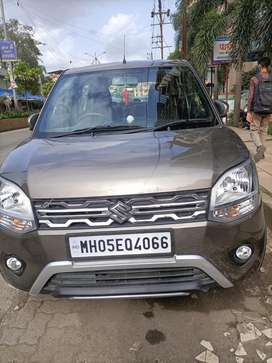MH05EQ4066: (68, 232, 170, 258)
